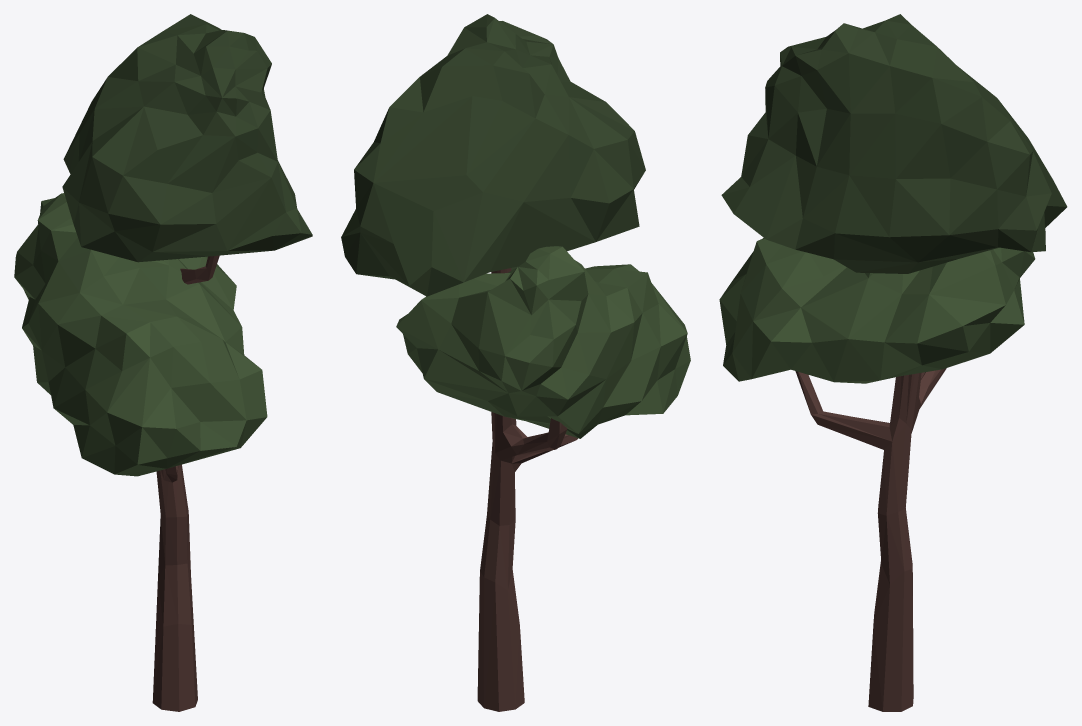
Rendered from CommonTree_3.glb.
The picture shows the model from 3 angles, left to right: view 1: azimuth 30°, elevation 25°; view 2: azimuth 150°, elevation 25°; view 3: azimuth 270°, elevation 25°; orthographic projection. The views are drawn at different scales.
Parts seen in each view (by area): view 1: CommonTree_3_Cube.031; view 2: CommonTree_3_Cube.031; view 3: CommonTree_3_Cube.031.
Boxes of the visible parts, x1,y1,x2,y2 form: CommonTree_3_Cube.031: [14, 14, 312, 711]; CommonTree_3_Cube.031: [341, 14, 690, 711]; CommonTree_3_Cube.031: [719, 14, 1067, 711].
Size of the model in its own units: 1.28 by 3.44 by 1.56.
